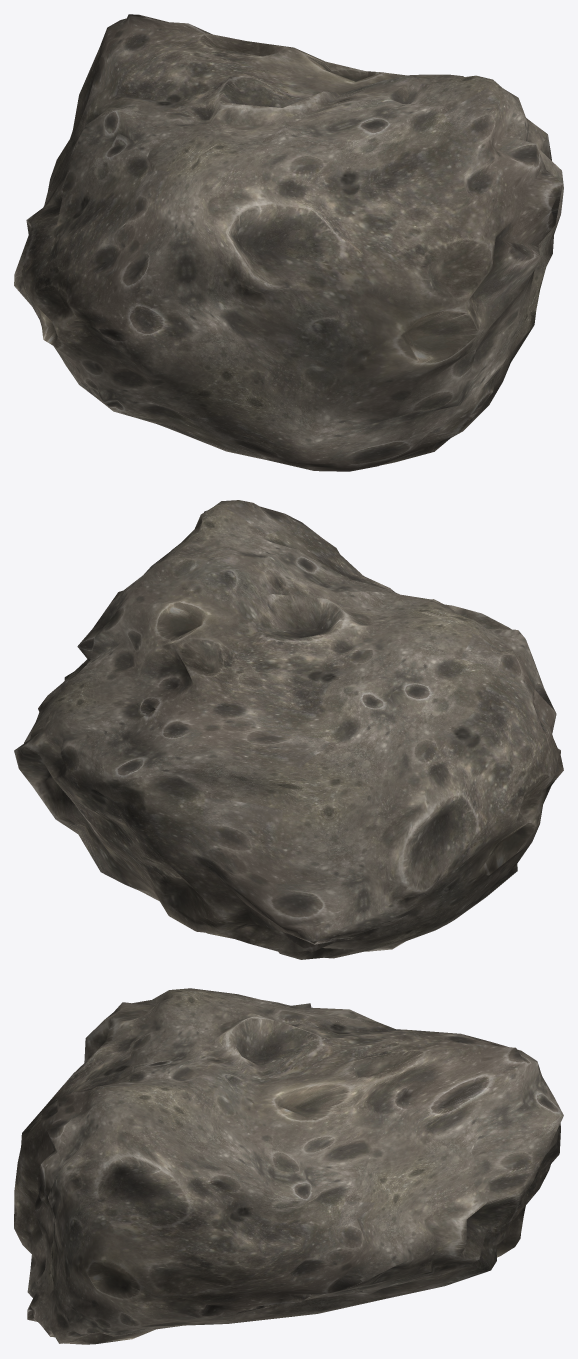
The model's file is Asteroid_02_L0.FBX.
3 renders of one model, top to bottom at view 1: azimuth 30°, elevation 25°; view 2: azimuth 150°, elevation 25°; view 3: azimuth 270°, elevation 25°, orthographic. The views are drawn at different scales.
Parts seen in each view (by area): view 1: Asteroid; view 2: Asteroid; view 3: Asteroid.
Boxes of the visible parts, x1,y1,x2,y2 form: Asteroid: (14,14,563,471); Asteroid: (14,500,563,959); Asteroid: (14,988,563,1344).
Size of the model in its own units: 2.92 by 2.03 by 3.19.
